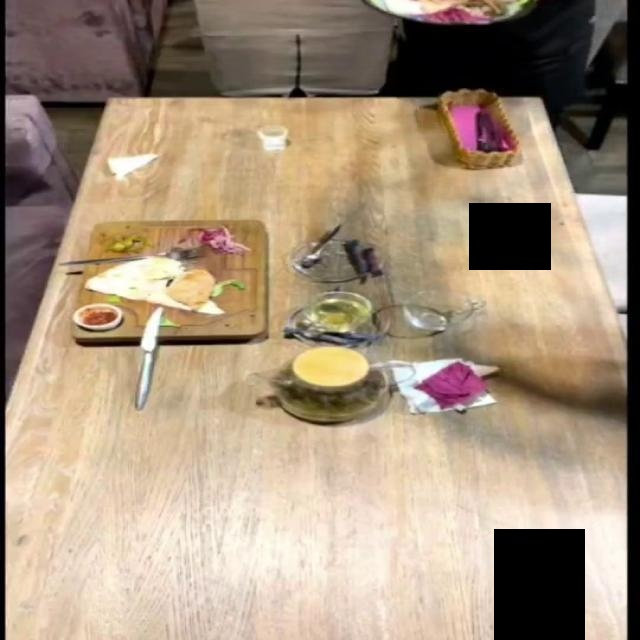meat: (70, 215, 271, 352)
tea: (267, 345, 385, 423)
